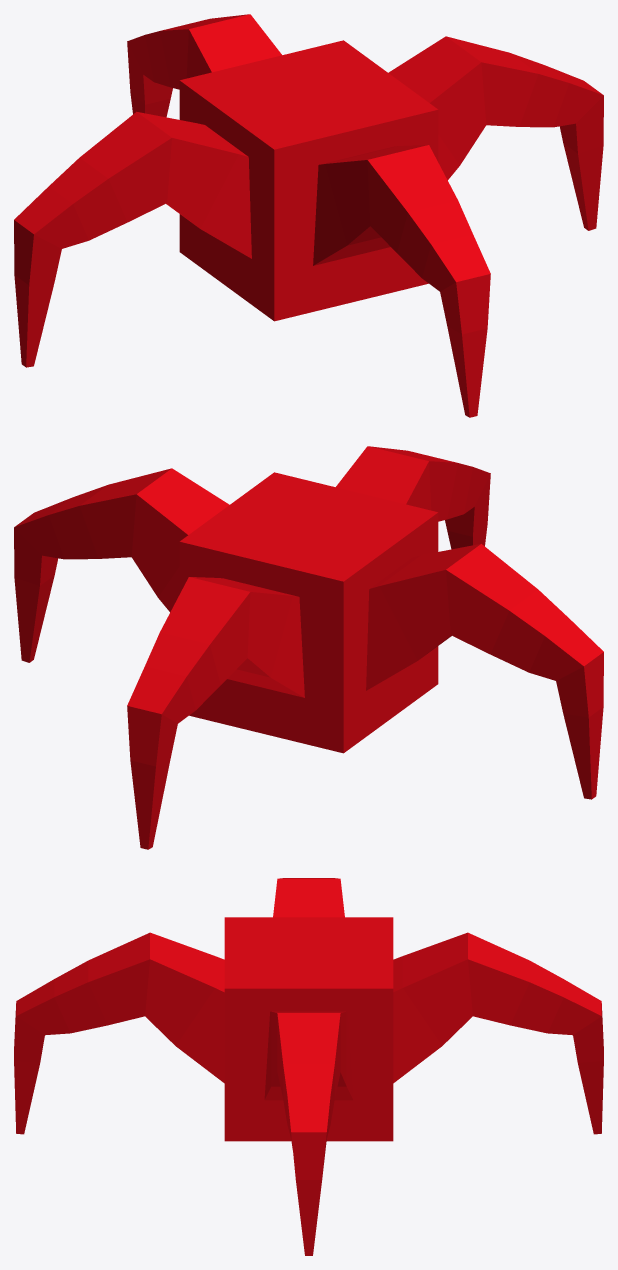
The model's file is wrogiRobot.glb.
The picture shows the model from 3 angles, top to bottom: view 1: azimuth 30°, elevation 25°; view 2: azimuth 150°, elevation 25°; view 3: azimuth 270°, elevation 25°; orthographic projection. The views are drawn at different scales.
Parts seen in each view (by area): view 1: RobotWrogi; view 2: RobotWrogi; view 3: RobotWrogi.
Boxes of the visible parts, left/top/right/bottom form: RobotWrogi: left=14, top=14, right=603, bottom=417; RobotWrogi: left=14, top=446, right=603, bottom=849; RobotWrogi: left=14, top=878, right=603, bottom=1255.
Bounding box in the file's own units: 1.72 × 0.6027 × 1.72.
